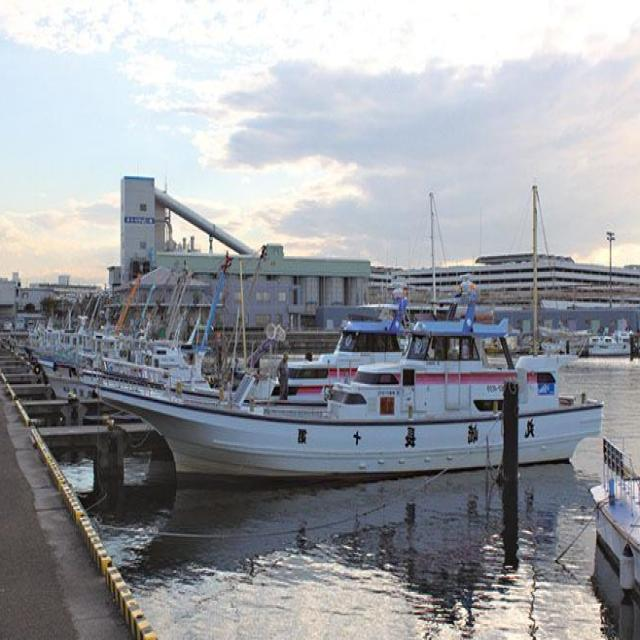houseboat: (111, 280, 601, 493)
